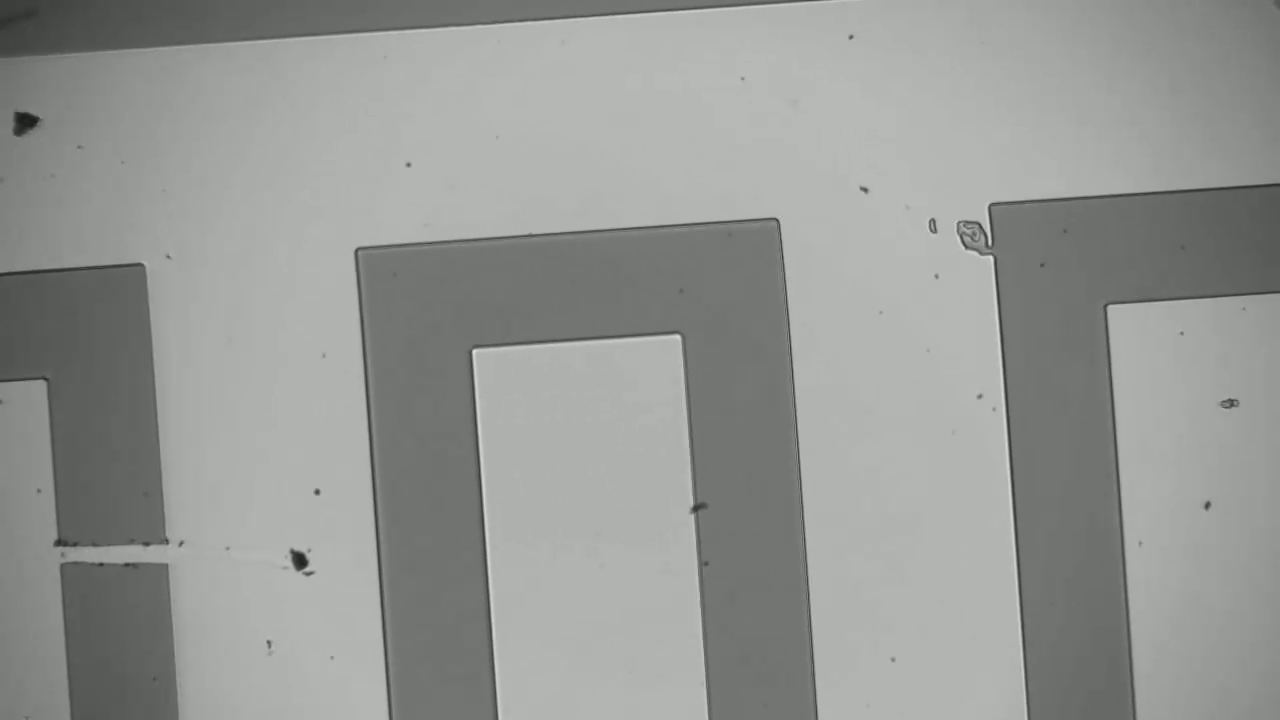Short_circuit: (31, 518, 197, 586)
